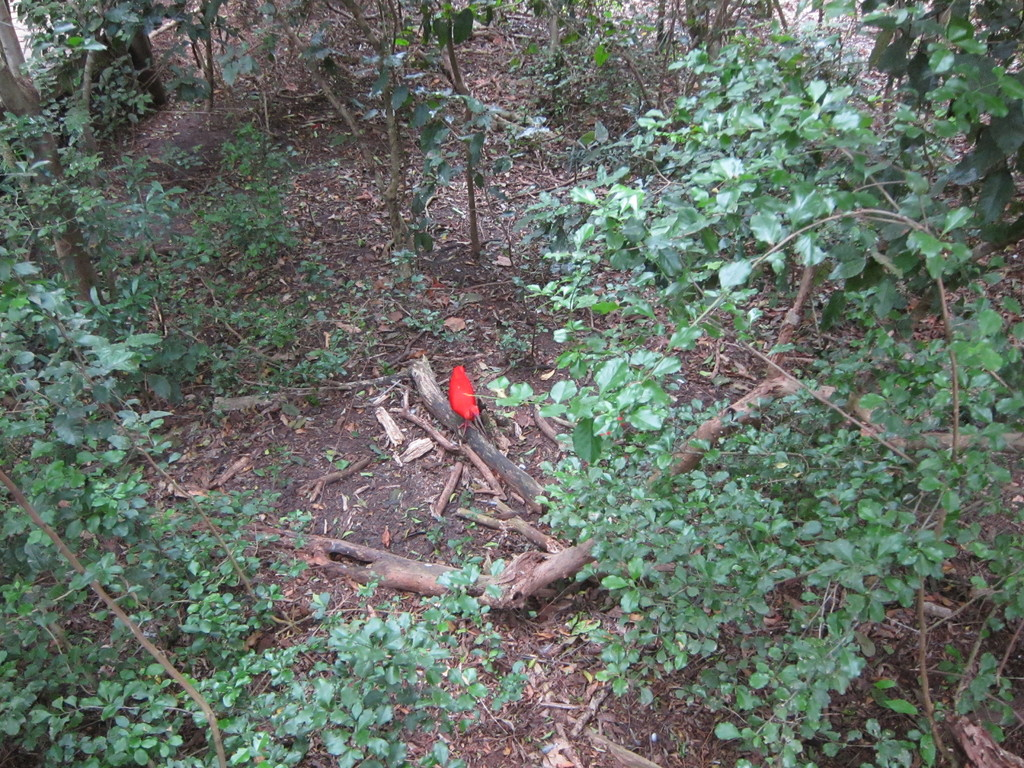Animal: (444, 363, 485, 437)
